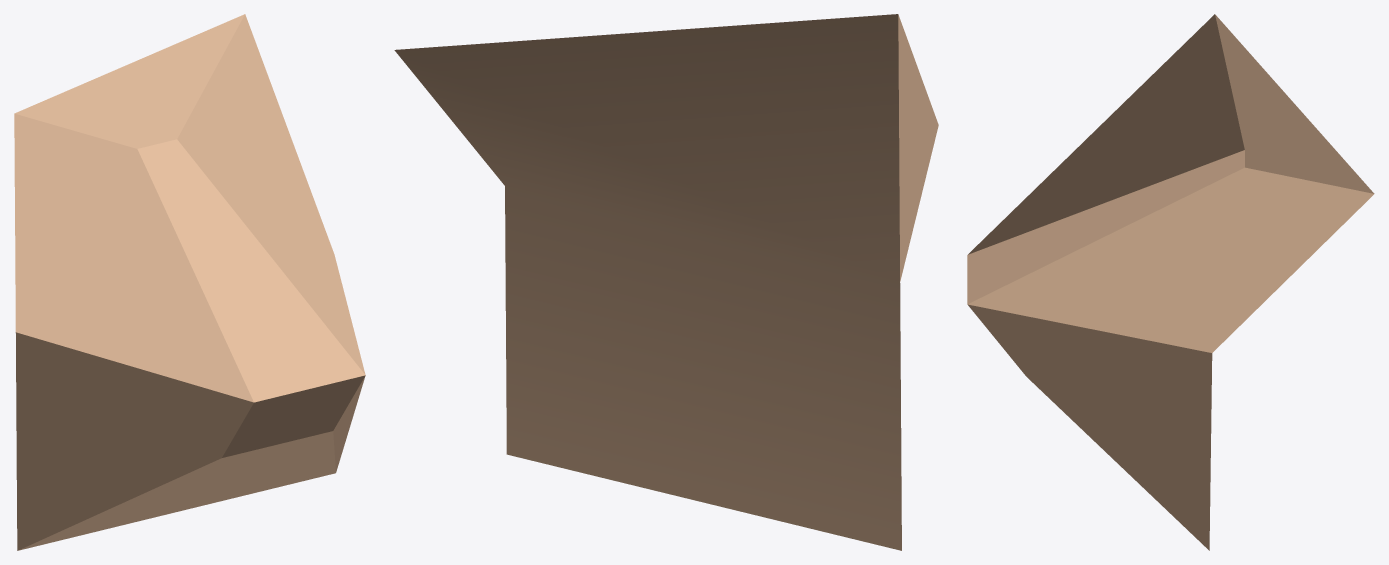
File: Nez Rozenn2.fbx
The picture shows the model from 3 angles, left to right: view 1: azimuth 30°, elevation 25°; view 2: azimuth 150°, elevation 25°; view 3: azimuth 270°, elevation 25°; orthographic projection. The views are drawn at different scales.
Parts seen in each view (by area): view 1: Nez Rozenn; view 2: Nez Rozenn; view 3: Nez Rozenn.
Part boxes in pixels (<box>): Nez Rozenn: <box>14,14,365,550</box>; Nez Rozenn: <box>394,14,938,550</box>; Nez Rozenn: <box>967,14,1374,550</box>.
Size of the model in its own units: 39.35 by 51.35 by 47.91.
